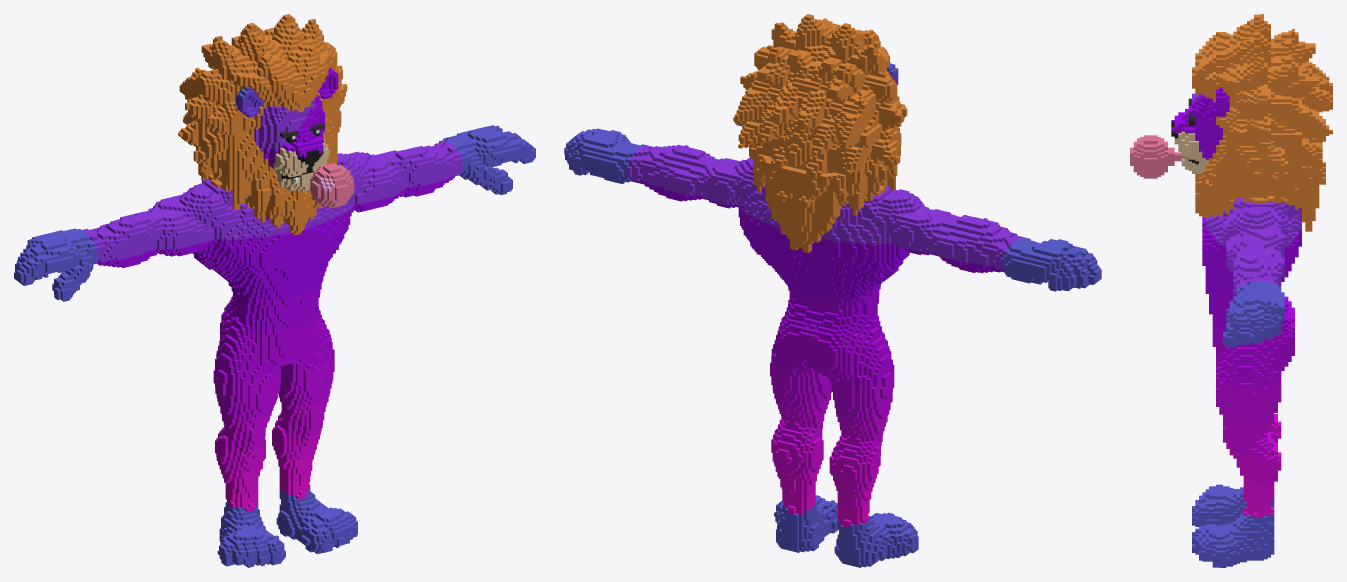
The model's file is 472-IgKA6lTV.glb.
The picture shows the model from 3 angles, left to right: view 1: azimuth 30°, elevation 25°; view 2: azimuth 150°, elevation 25°; view 3: azimuth 270°, elevation 25°; orthographic projection. The views are drawn at different scales.
Visible parts, largest first — view 1: bubble_gum; view 2: bubble_gum; view 3: bubble_gum.
Part boxes in pixels (bbox=[...]): bubble_gum: bbox=[14, 14, 535, 567]; bubble_gum: bbox=[564, 14, 1101, 567]; bubble_gum: bbox=[1130, 14, 1332, 567].
Bounding box in the file's own units: 17.2 × 16.5 × 5.9.
Materials: 4 (4 with a texture image).
